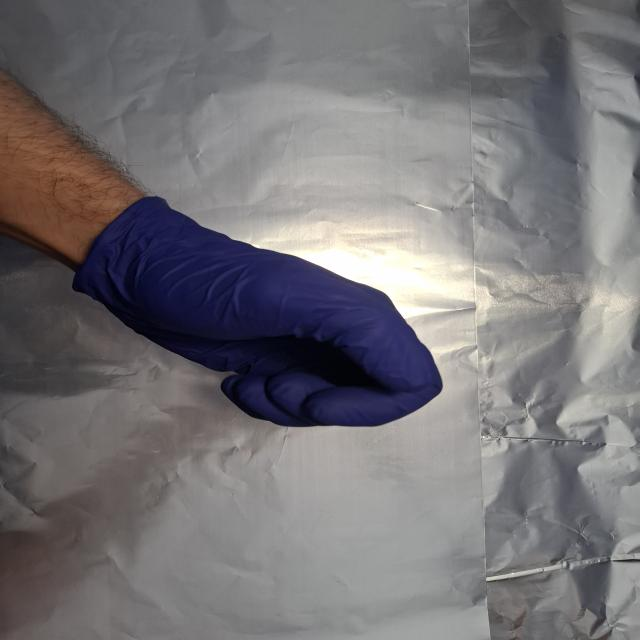glove_on: (73, 196, 446, 429)
